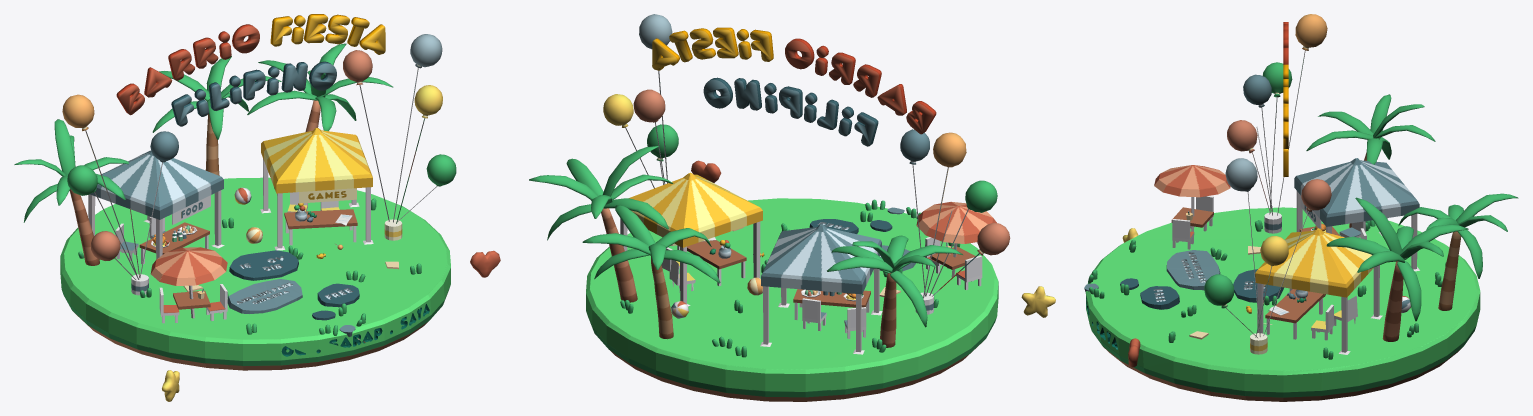
The model's file is 3D Poster.fbx.
3 views of the same model, side by side, from view 1: azimuth 30°, elevation 25°; view 2: azimuth 150°, elevation 25°; view 3: azimuth 270°, elevation 25° (orthographic). The views are drawn at different scales.
Visible parts, largest first — view 1: All_Baked; view 2: All_Baked; view 3: All_Baked.
Part boxes in pixels (left/top/right/bottom): All_Baked: left=14, top=14, right=500, bottom=401; All_Baked: left=529, top=14, right=1055, bottom=401; All_Baked: left=1084, top=14, right=1518, bottom=401.
Bounding box in the file's own units: 4888 × 3546 × 4918.
Materials: 2 (2 with a texture image).
